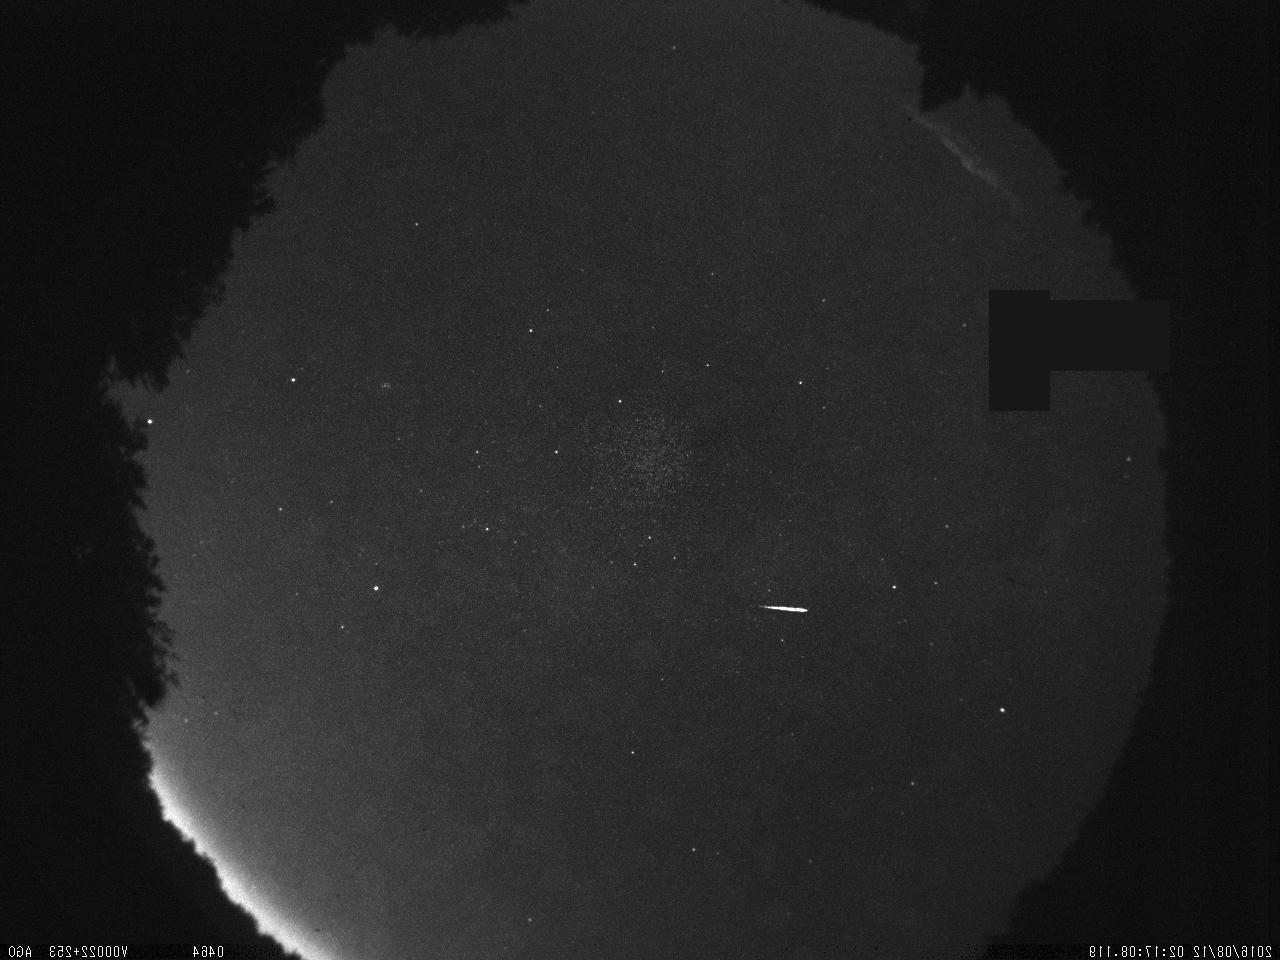meteor: (742, 593, 822, 628)
